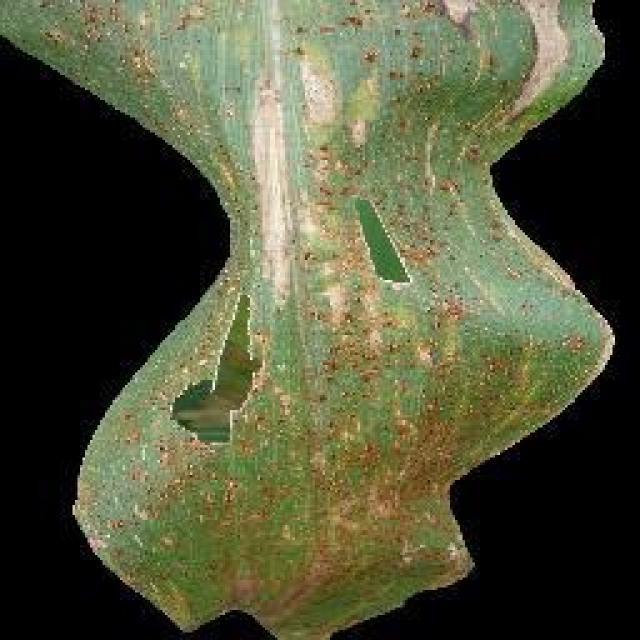Corn Common Rust: (212, 30, 542, 585)
